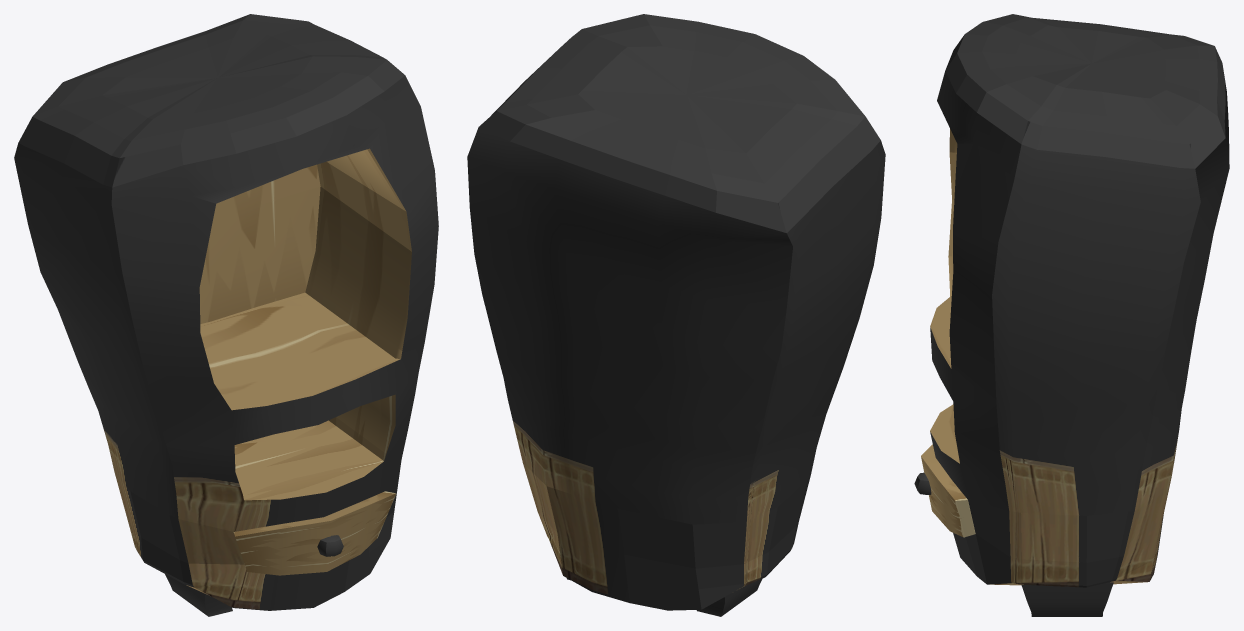
The model's file is cabinet.fbx.
3 views of the same model, side by side, from view 1: azimuth 30°, elevation 25°; view 2: azimuth 150°, elevation 25°; view 3: azimuth 270°, elevation 25° (orthographic).
Parts seen in each view (by area): view 1: polySurface35; view 2: polySurface35; view 3: polySurface35.
Part boxes in pixels (x1,y1,x2,y2): polySurface35: (14, 14, 438, 616); polySurface35: (467, 14, 885, 616); polySurface35: (914, 14, 1229, 616).
Size of the model in its own units: 6.91 by 10.48 by 5.79.
